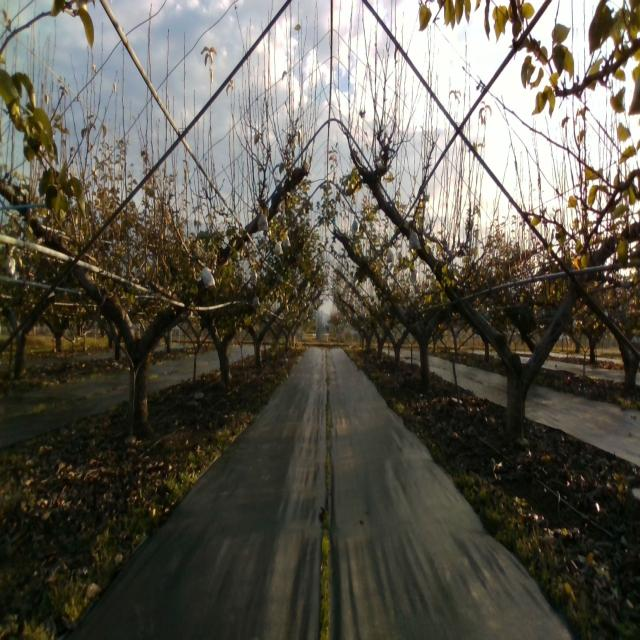pearbags: (202, 266, 216, 289), (408, 228, 421, 250), (257, 208, 268, 231)
